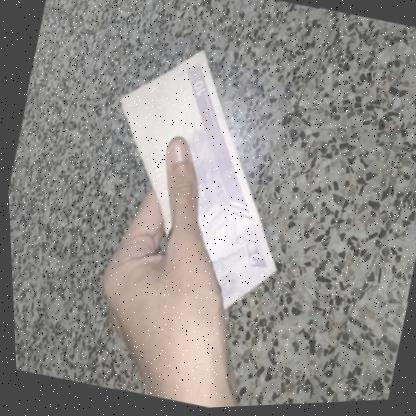ten-back-vef: (69, 32, 325, 339)
